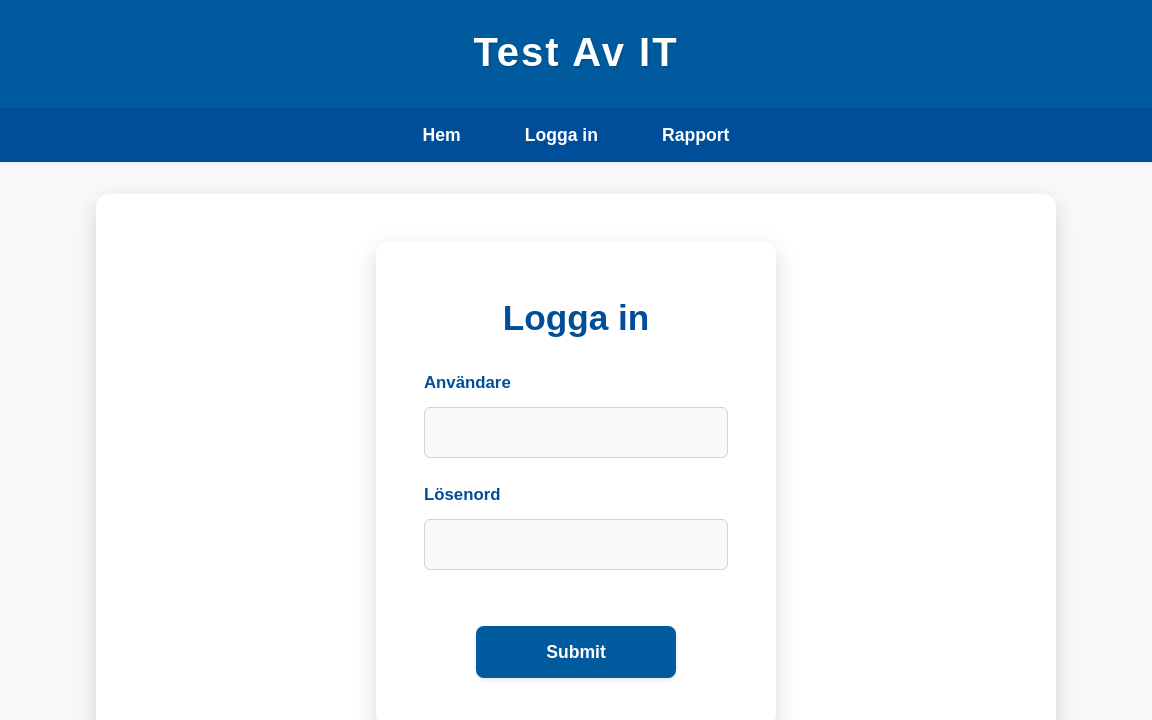
Test: Inloggning › ogiltiga uppgifter ger felmeddelande
The image size is (1152, 720).
Type "wrong" into the field with test id "input-username".
click(576, 433); type("wrong")  # box [424,407,728,459]
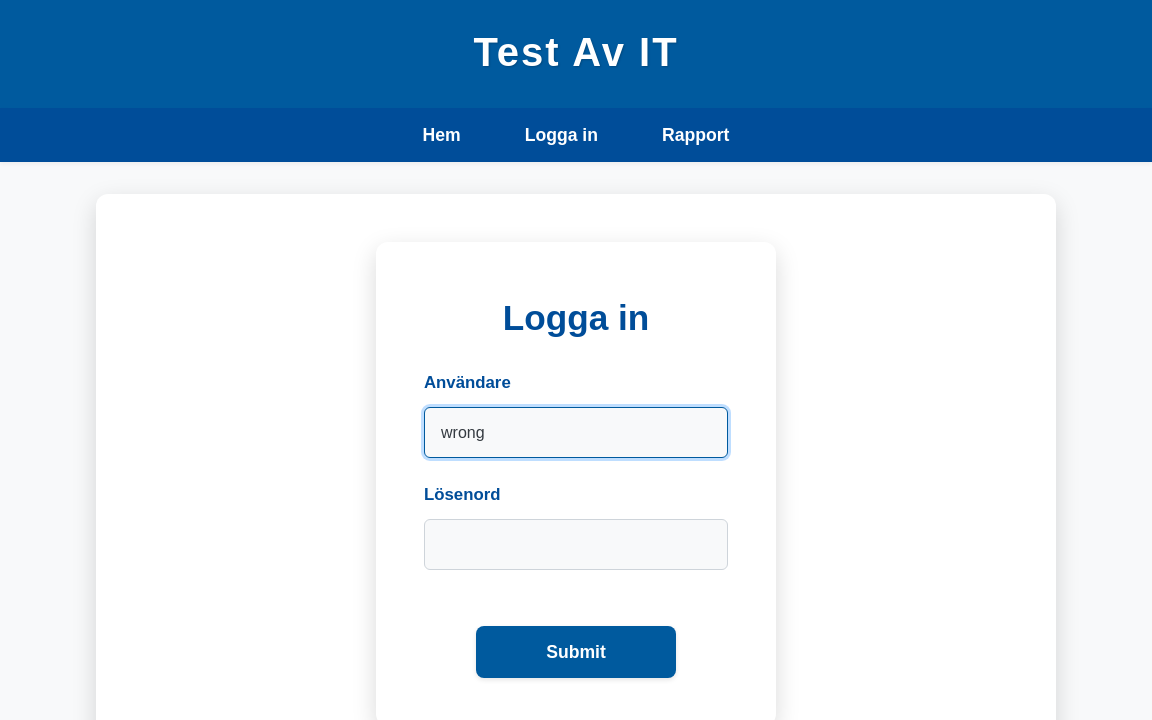
Type "nope" into the password field with test id "input-password".
click(576, 545); type("nope")  # box [424,519,728,571]
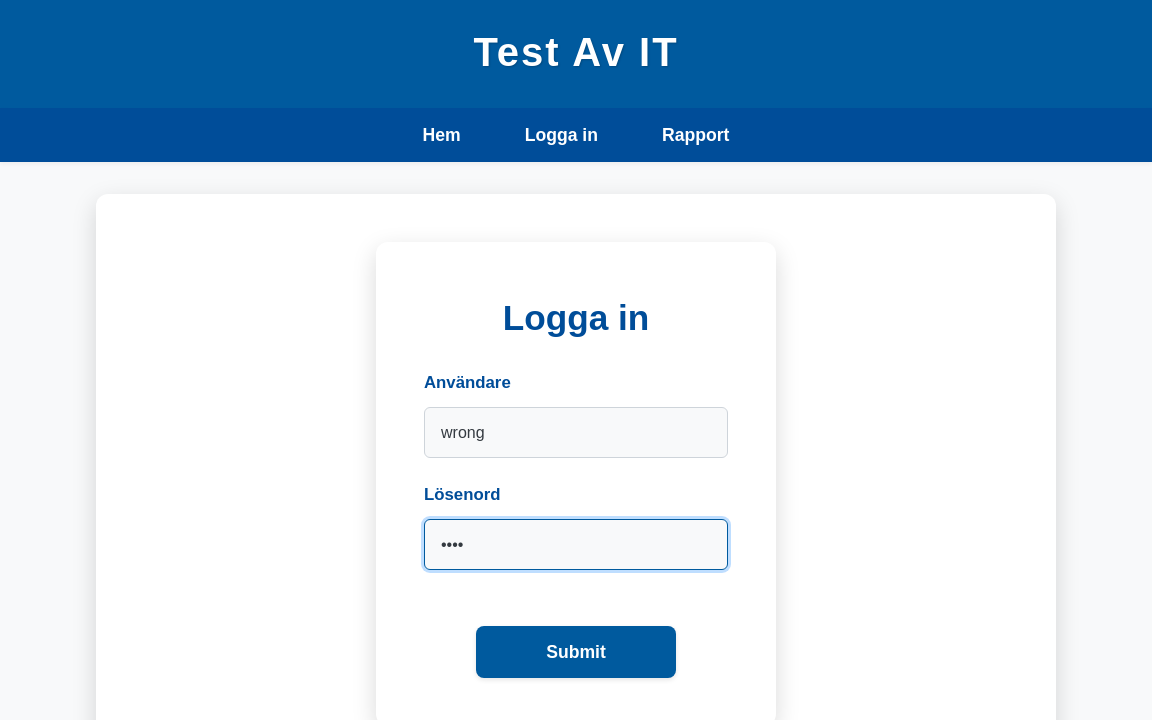
Click the button with test id "btn-submit".
click(576, 652)  # box [476,626,676,678]
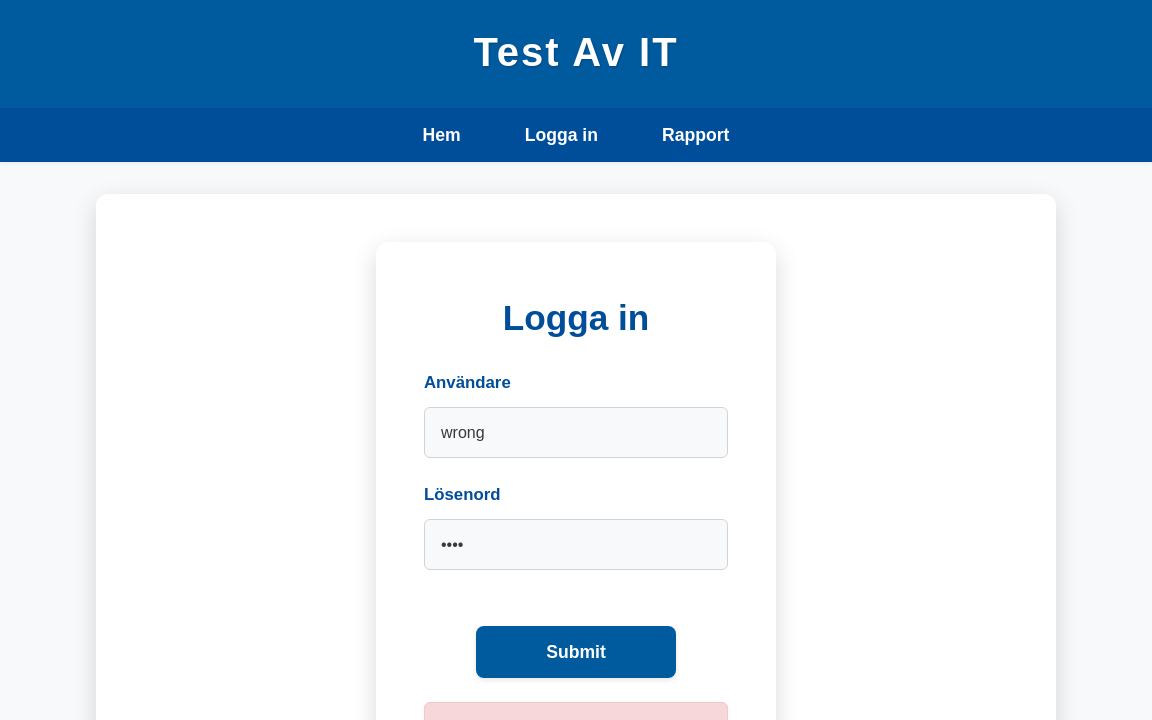
Now the text "Fel användarnamn eller lösen" is shown, box [424,702,728,719]
